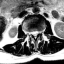CCS_normal: (33, 27, 36, 41)
LFS_normal: (38, 27, 41, 36)
LLS_normal: (36, 27, 38, 37)
RFS_normal: (28, 28, 31, 37)
RLS_normal: (31, 28, 33, 37)
